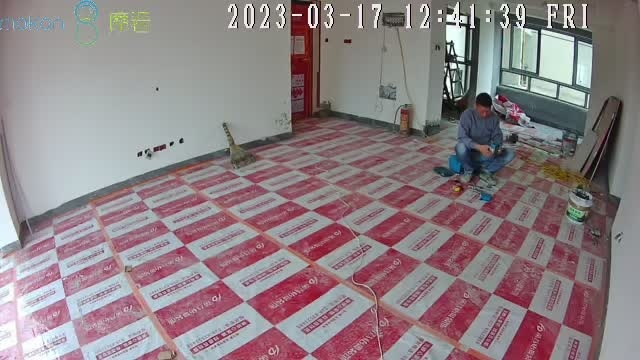people: (458, 93, 505, 186)
window: (498, 22, 593, 110)
